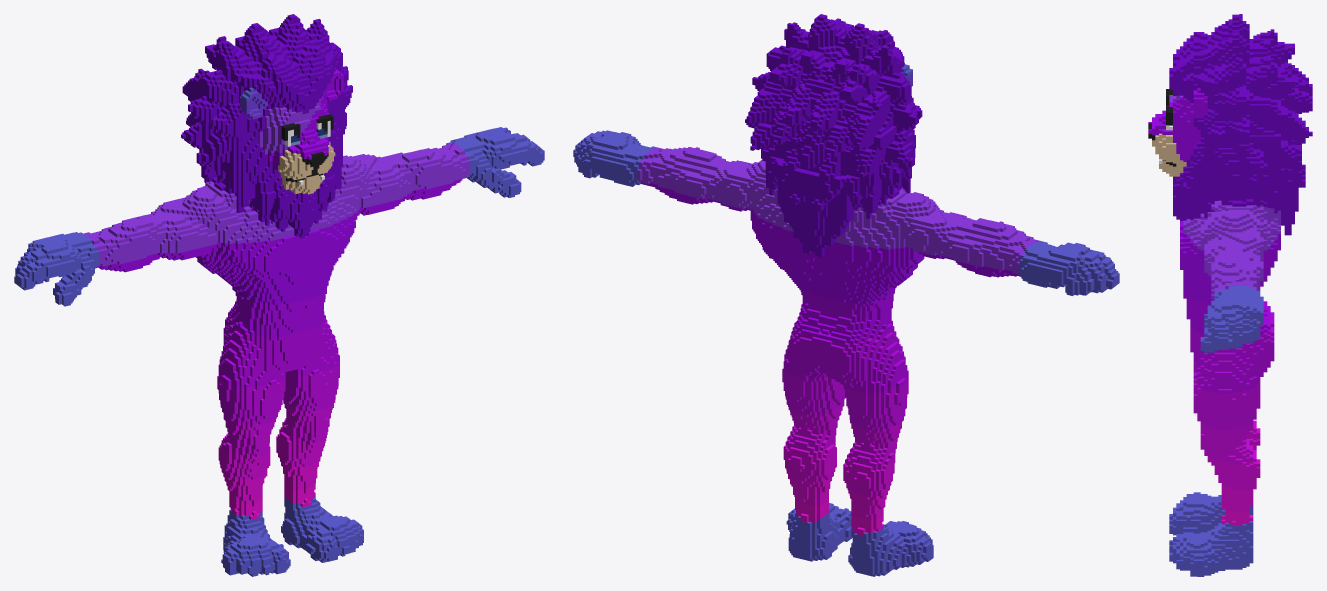
Rendered from 154-ubSpFDB4.glb.
3 renders of one model, left to right at view 1: azimuth 30°, elevation 25°; view 2: azimuth 150°, elevation 25°; view 3: azimuth 270°, elevation 25°, orthographic. The views are drawn at different scales.
Visible parts, largest first — view 1: standard; view 2: standard; view 3: standard.
Part boxes in pixels (x1=…): standard: x1=14, y1=14, x2=544, y2=576; standard: x1=573, y1=14, x2=1119, y2=576; standard: x1=1148, y1=14, x2=1312, y2=576.
Bounding box in the file's own units: 17.2 × 16.5 × 4.7.
Materials: 4 (4 with a texture image).
